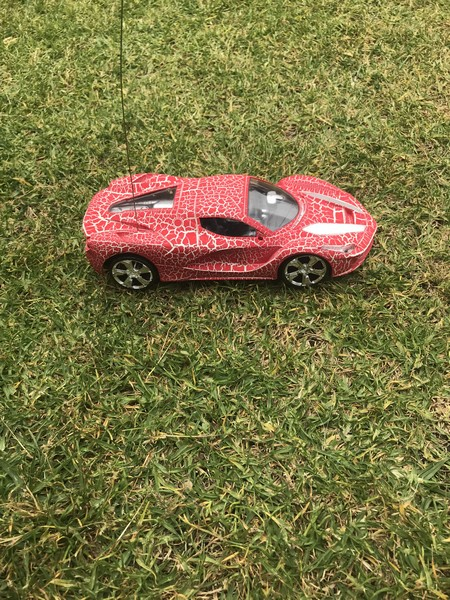RC: (80, 172, 377, 292)
